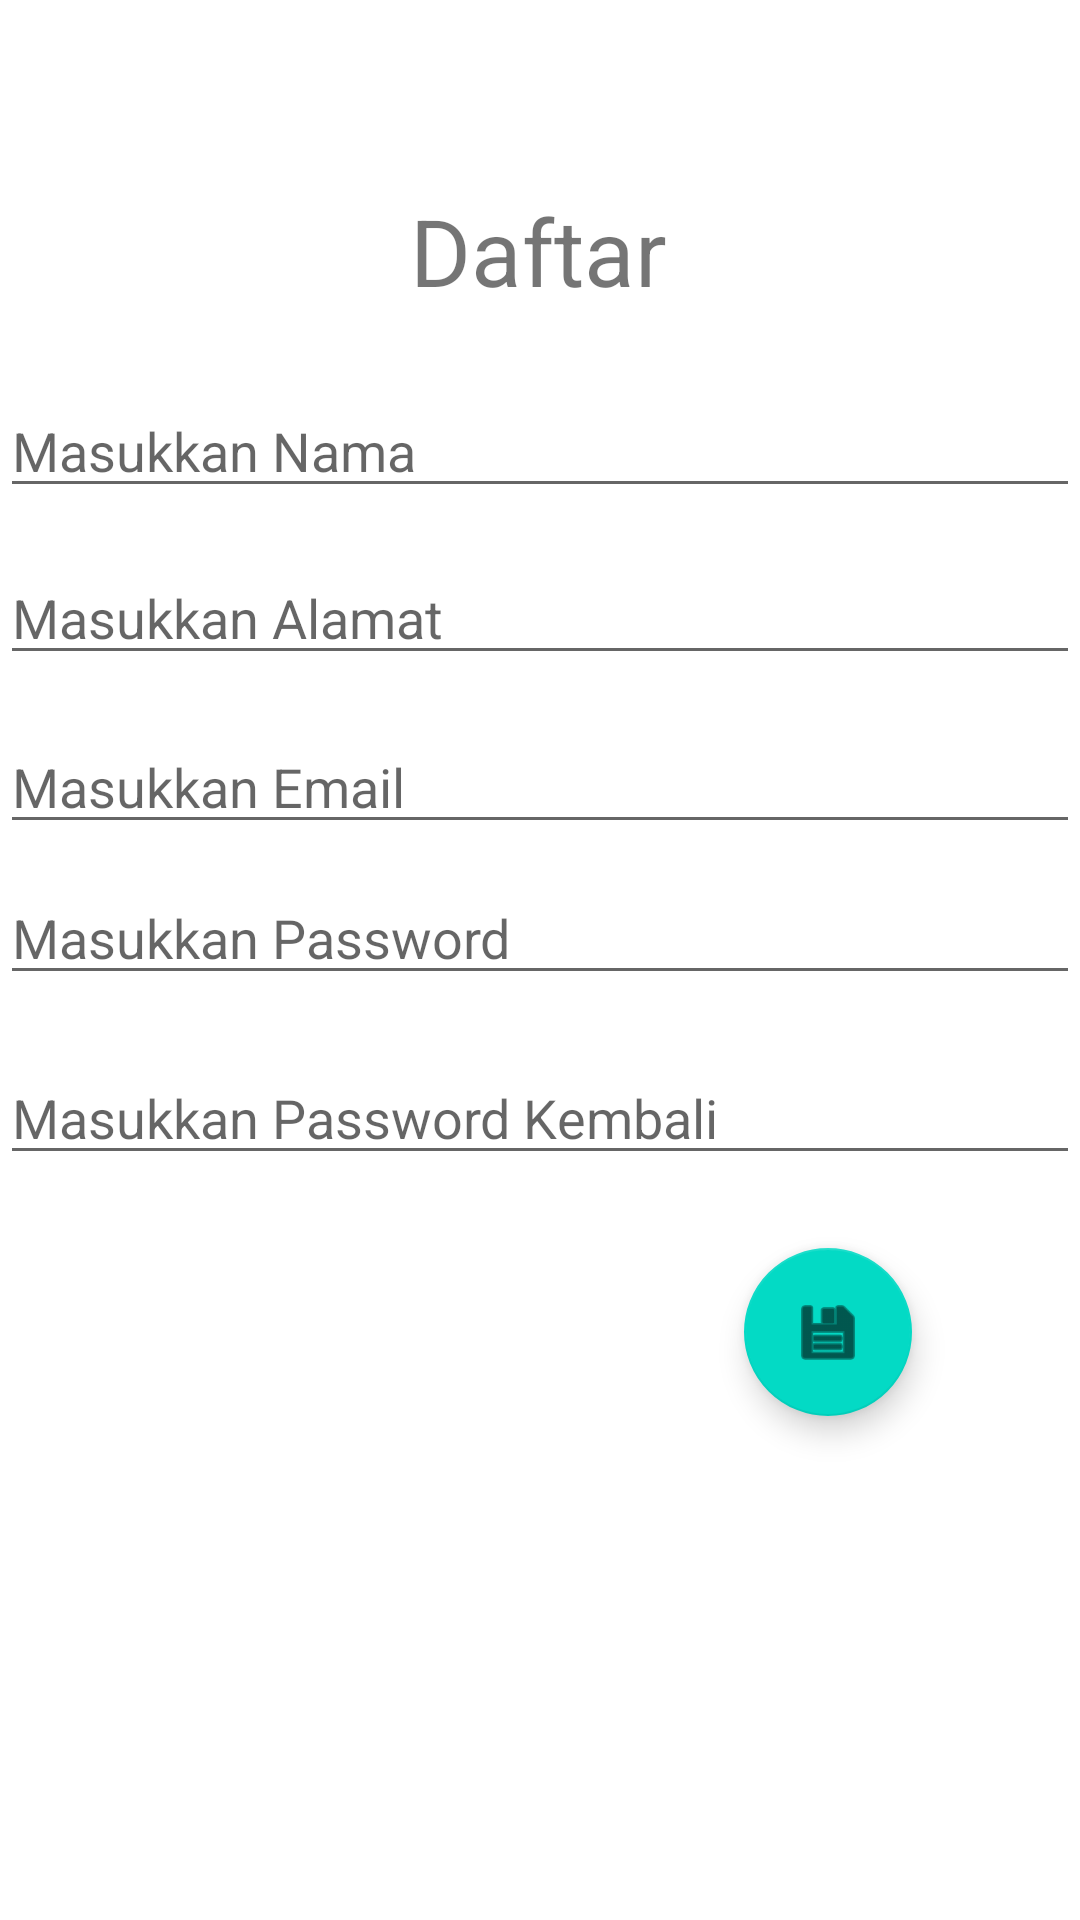

Icons on this 1080px×1920px Android screen, each with its box as (x1, y1, x2, y2):
save: (744, 1248, 912, 1416)
